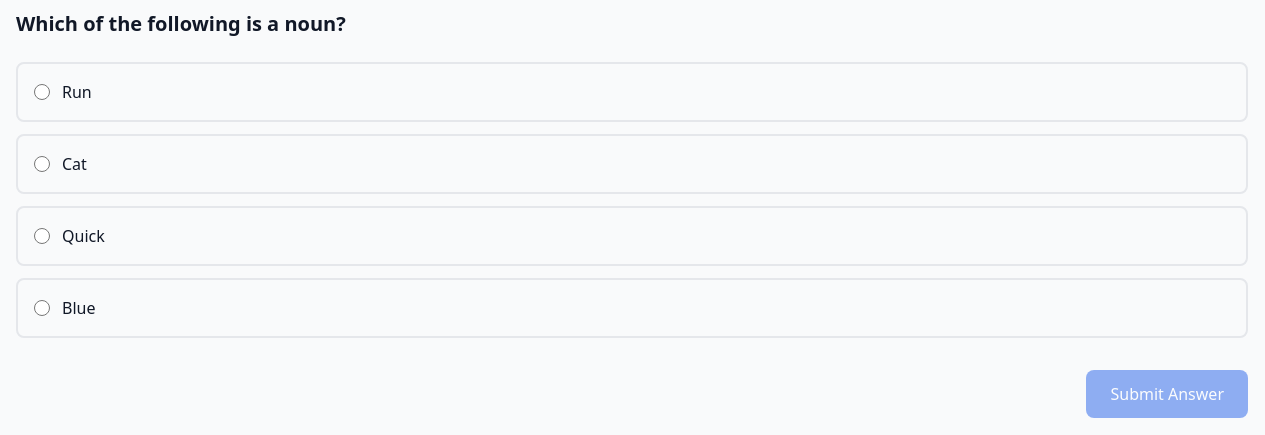
MultipleChoiceExercise › shows submitting state after submission
What coordinates should you click on to do the following:
click the radio button labelled "Cat"
I would click on:
 (42, 164)
Its box is [34,156,50,172].
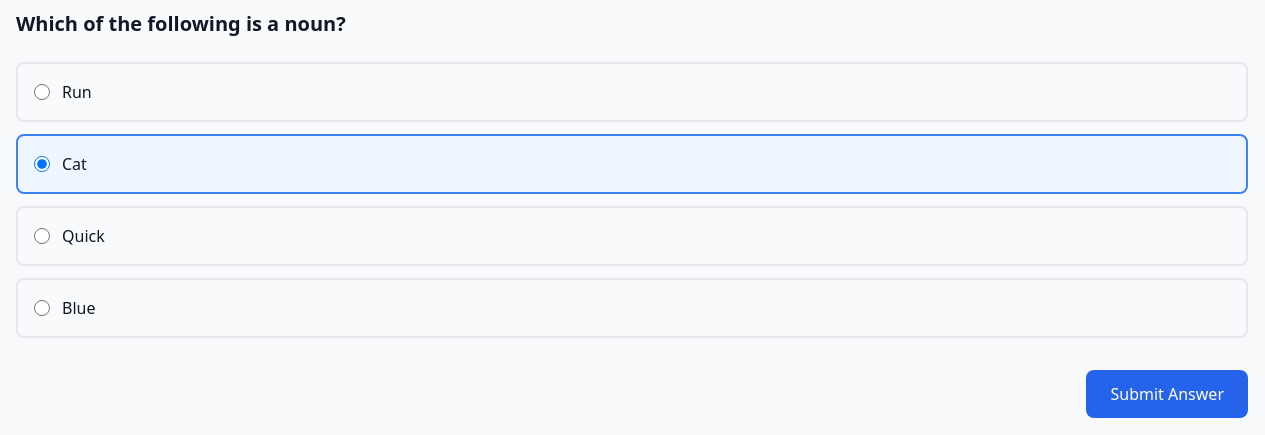
What coordinates should you click on to do the following:
click the button "Submit Answer"
I would click on:
 (1167, 394)
Its box is [1086,370,1248,418].
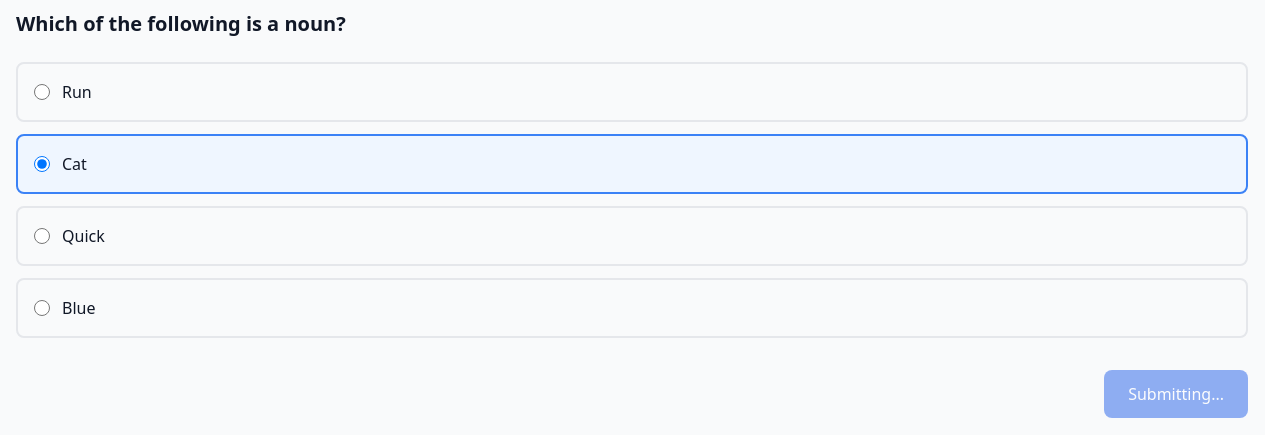
Result: the button "Submitting..." is shown at [1104,370,1248,418]
